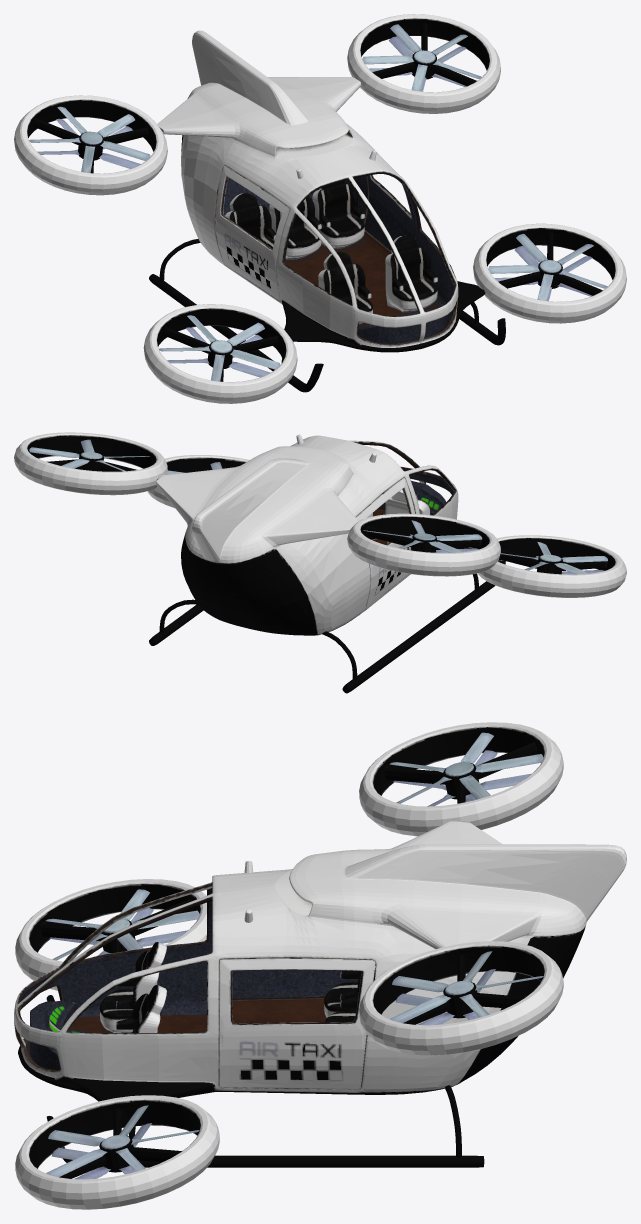
File: AirTaxi.glb
The picture shows the model from 3 angles, top to bottom: view 1: azimuth 30°, elevation 25°; view 2: azimuth 150°, elevation 25°; view 3: azimuth 270°, elevation 25°; orthographic projection. The views are drawn at different scales.
Parts seen in each view (by area): view 1: Aircar1; view 2: Aircar1; view 3: Aircar1.
Boxes of the visible parts, x1,y1,x2,y2 form: Aircar1: (14,14,626,403); Aircar1: (14,432,626,693); Aircar1: (14,722,626,1209).
Size of the model in its own units: 7.35 by 2.88 by 6.21.
1 material, 1 textured.
